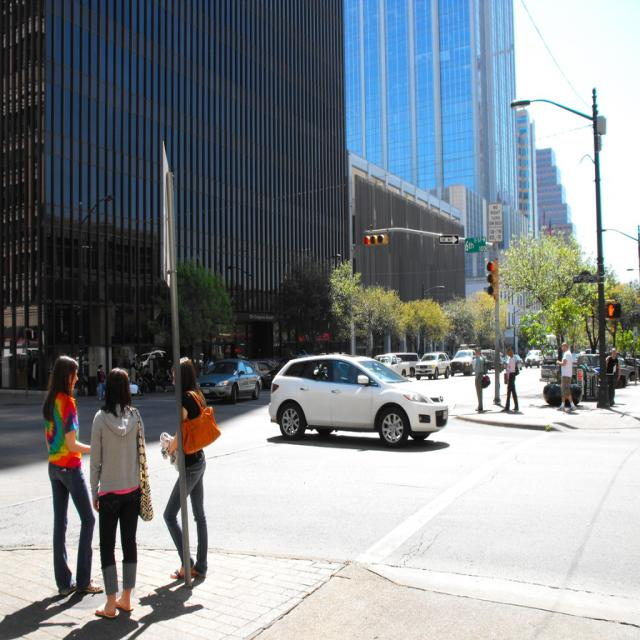car: (271, 347, 448, 445), (414, 351, 449, 375), (527, 350, 541, 363)
